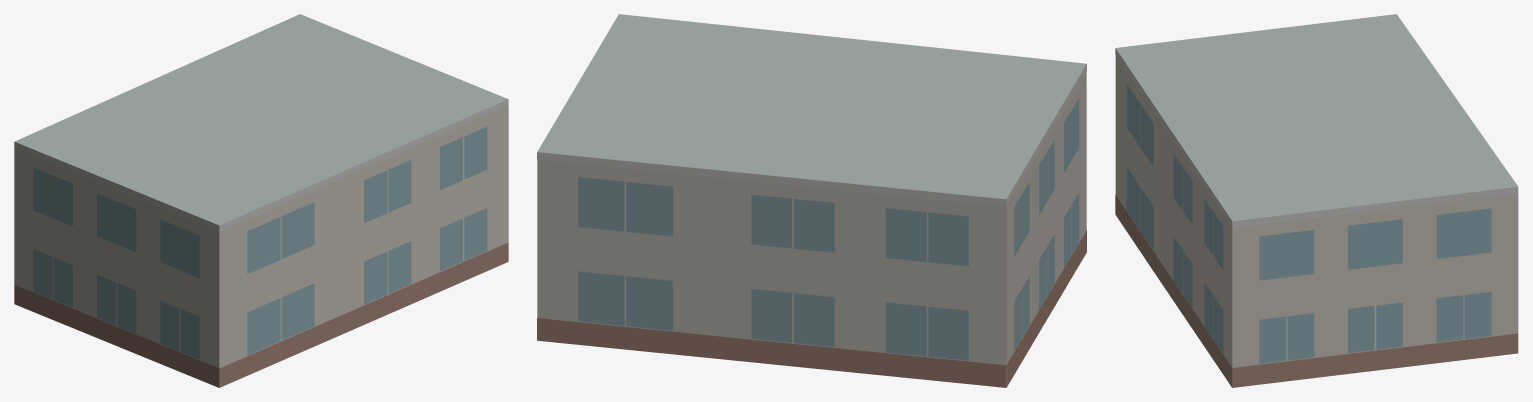
Rendered from survey-upis-32623674.glb.
3 renders of one model, left to right at view 1: azimuth 30°, elevation 25°; view 2: azimuth 150°, elevation 25°; view 3: azimuth 270°, elevation 25°, orthographic. The views are drawn at different scales.
Parts seen in each view (by area): view 1: survey-upis-32623674.tmp; view 2: survey-upis-32623674.tmp; view 3: survey-upis-32623674.tmp.
Boxes of the visible parts, x1,y1,x2,y2 form: survey-upis-32623674.tmp: (14,14,508,387); survey-upis-32623674.tmp: (537,14,1086,387); survey-upis-32623674.tmp: (1115,14,1518,387).
Size of the model in its own units: 16.28 by 6.1 by 13.38.
